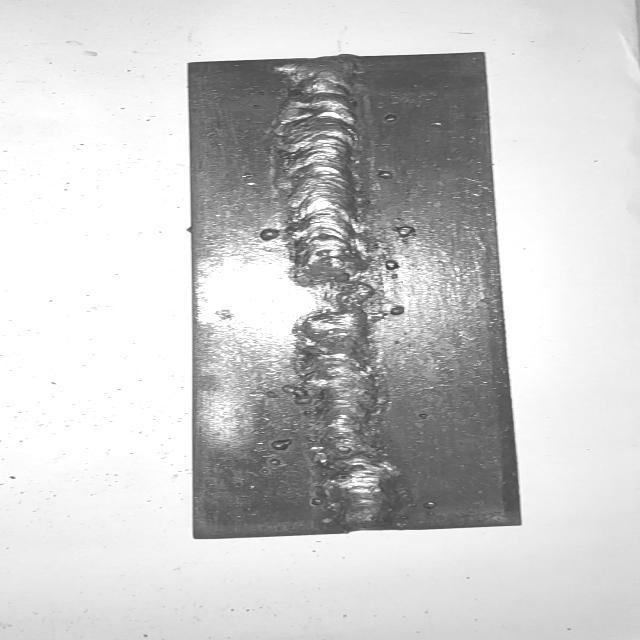Defect: (277, 260, 388, 332)
Welding Line: (290, 61, 392, 528)
Workpiece: (180, 48, 524, 542)
